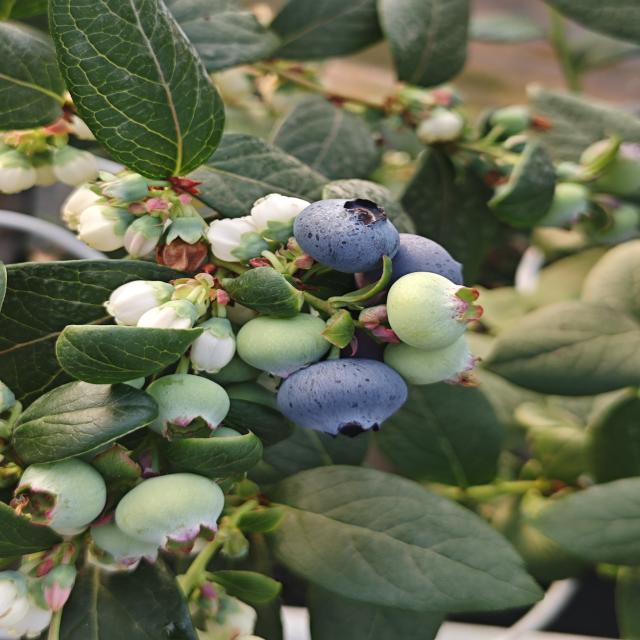ripe: (273, 356, 411, 441), (290, 195, 402, 275), (372, 227, 478, 295)
